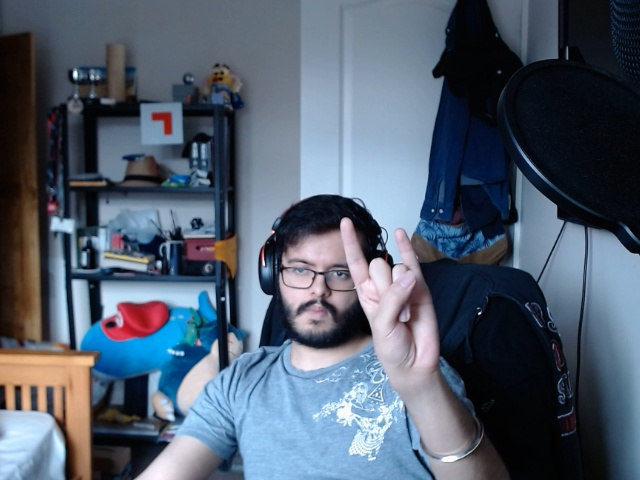Rock on: (330, 211, 463, 384)
